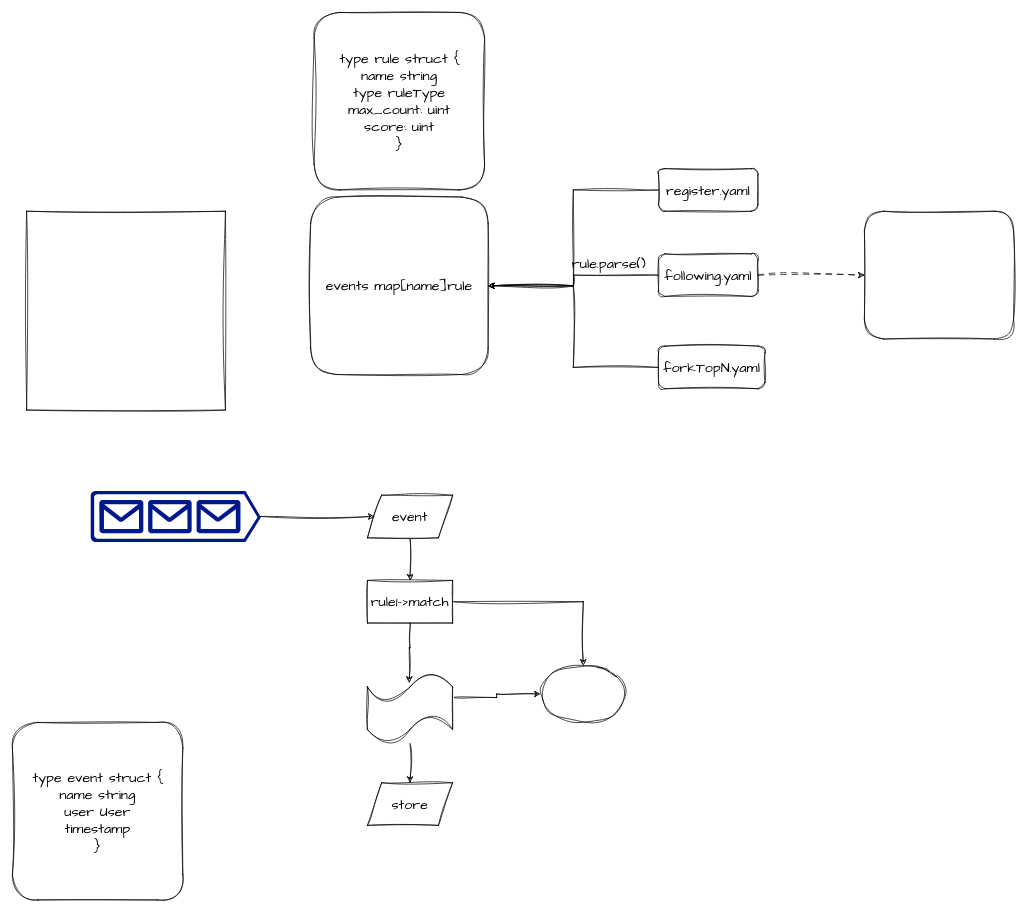
This 1026x912 diagram has some shape labels left out. Each missing label, with the centre of its shape:
"calculate" goes at point 410,708.
"do nothing" goes at point 583,693.
"name: following type: daily/once max_count: 3 score: 1" goes at point 939,275.
"type rule interface { parse(path) match(event) }" goes at point 125,310.
